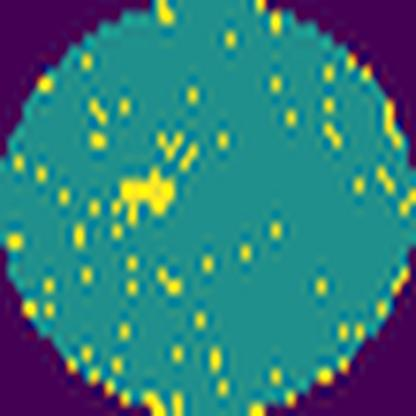Edge-Loc: (121, 166, 176, 221)
